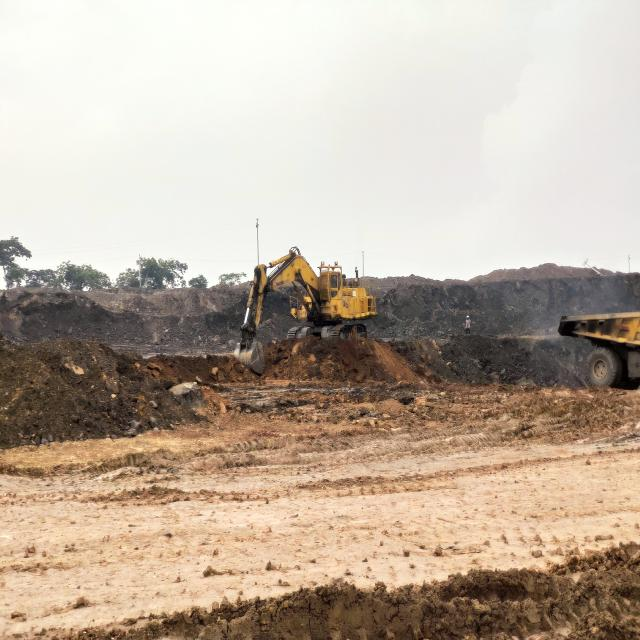dump_truck: (556, 312, 640, 393)
excavator: (238, 247, 378, 372)
